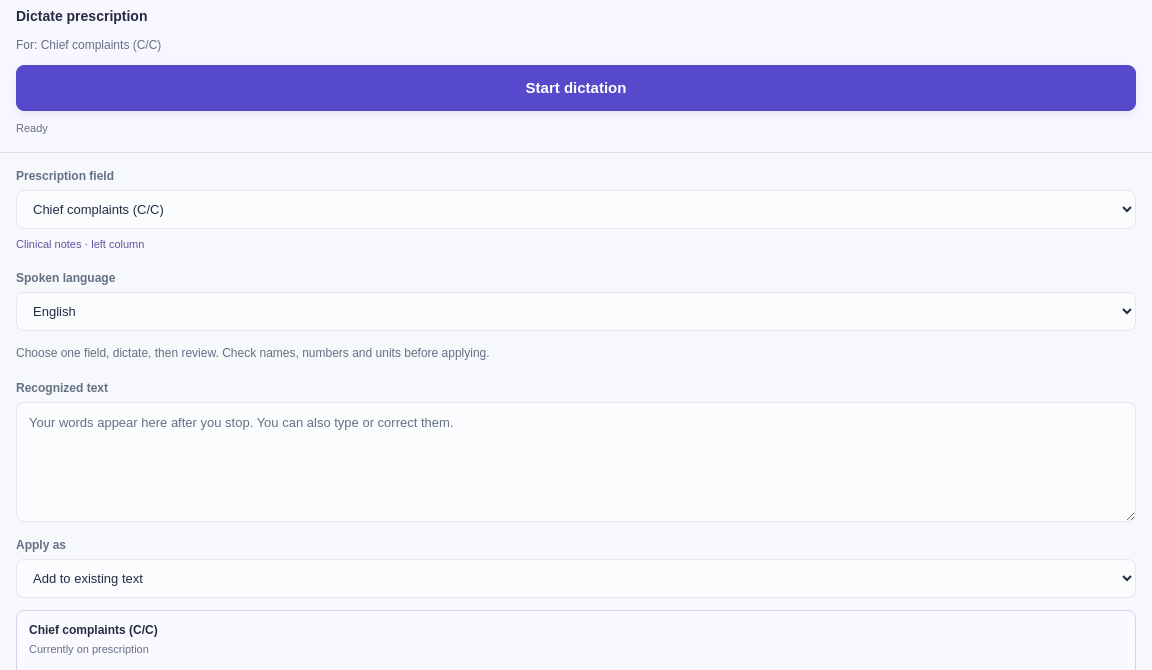
Test: shows the exact replacement preview and retains text when application fails
The width and height of the screenshot is (1152, 670).
Step 1. Replace the text in the text box labelled "Recognized text" with "New complaint" → (576,462), box x1=16 y1=402 x2=1136 y2=522
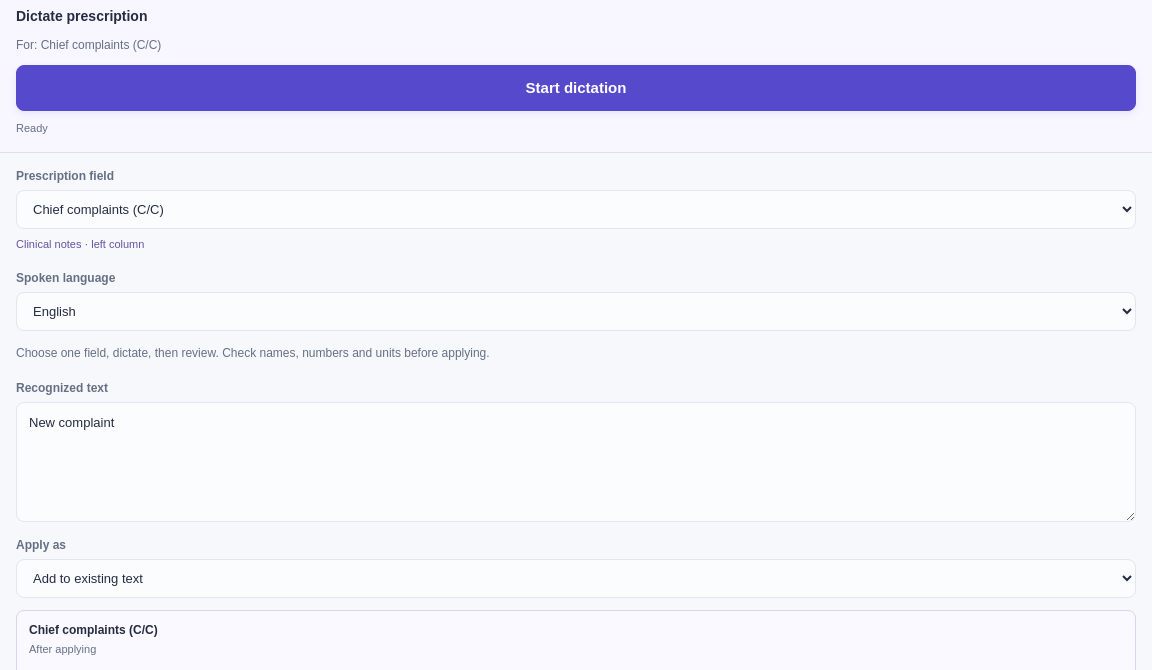
Step 2. Select "Replace this field's text" in the dropdown labelled "Apply as" → (576,578), box x1=16 y1=559 x2=1136 y2=598
(page scrolled)
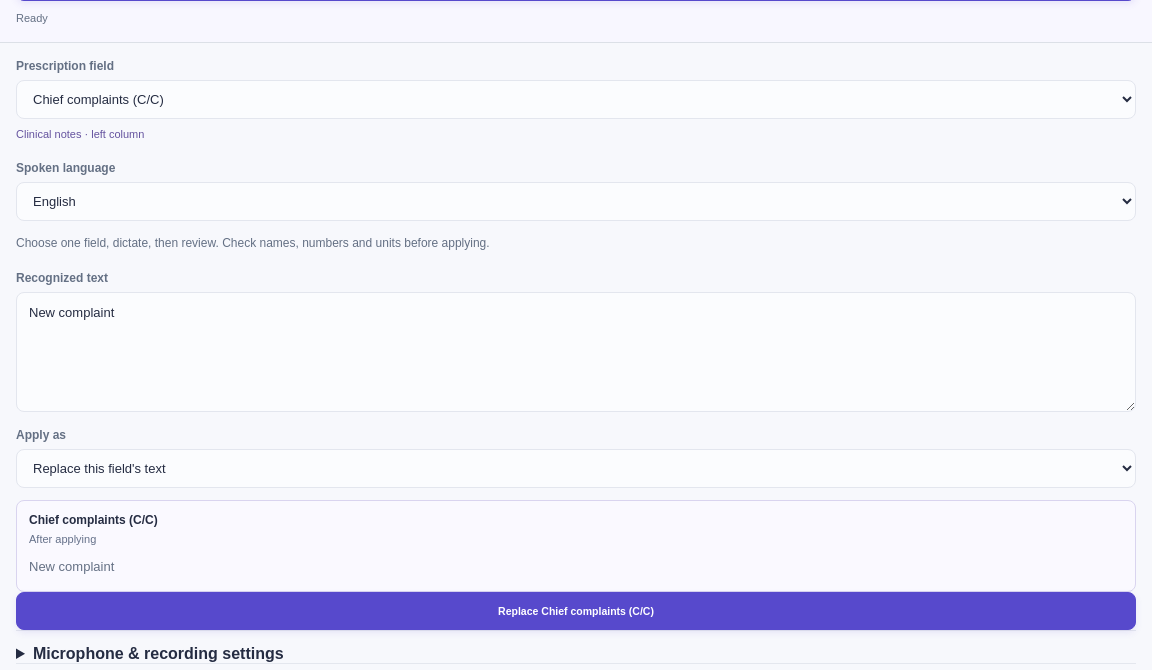
Step 3. Click the button "Replace Chief complaints (C/C)" → (576,611), box x1=16 y1=592 x2=1136 y2=630
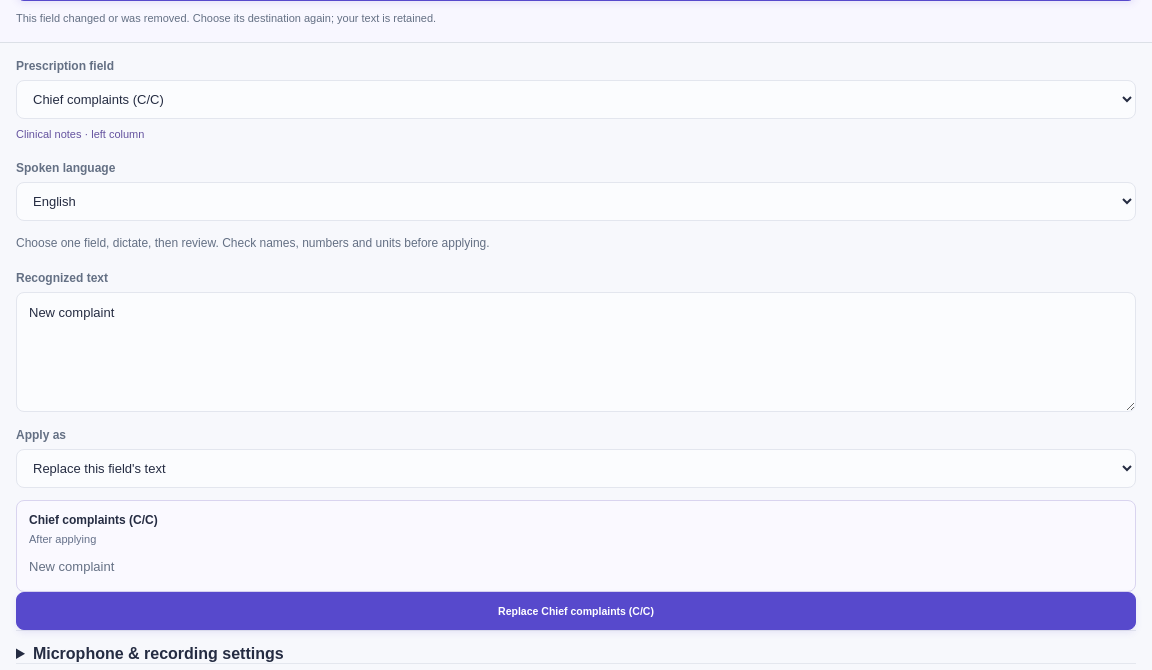
Result: the message shows "your text is retained" at x1=16 y1=12 x2=436 y2=24
